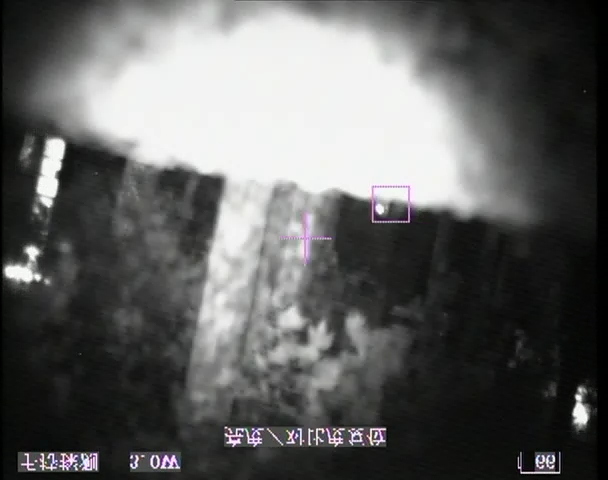my: (373, 202, 386, 215)
